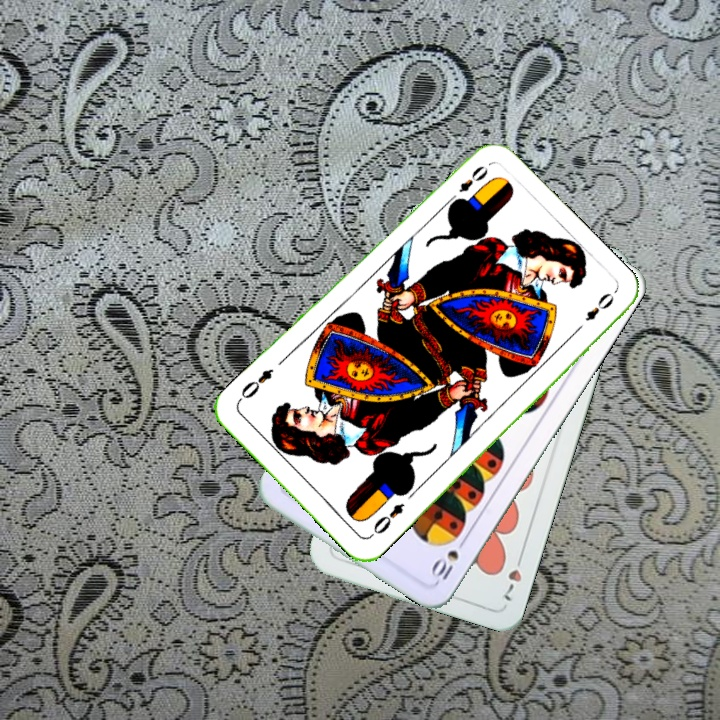EO: (443, 161, 491, 207), (366, 499, 407, 540)
H7: (498, 549, 526, 604)
S10: (427, 533, 470, 583)
